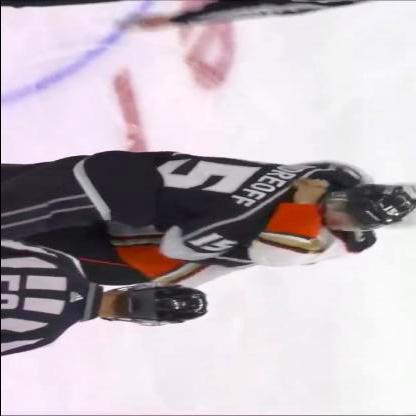voilence: (1, 150, 416, 289)
